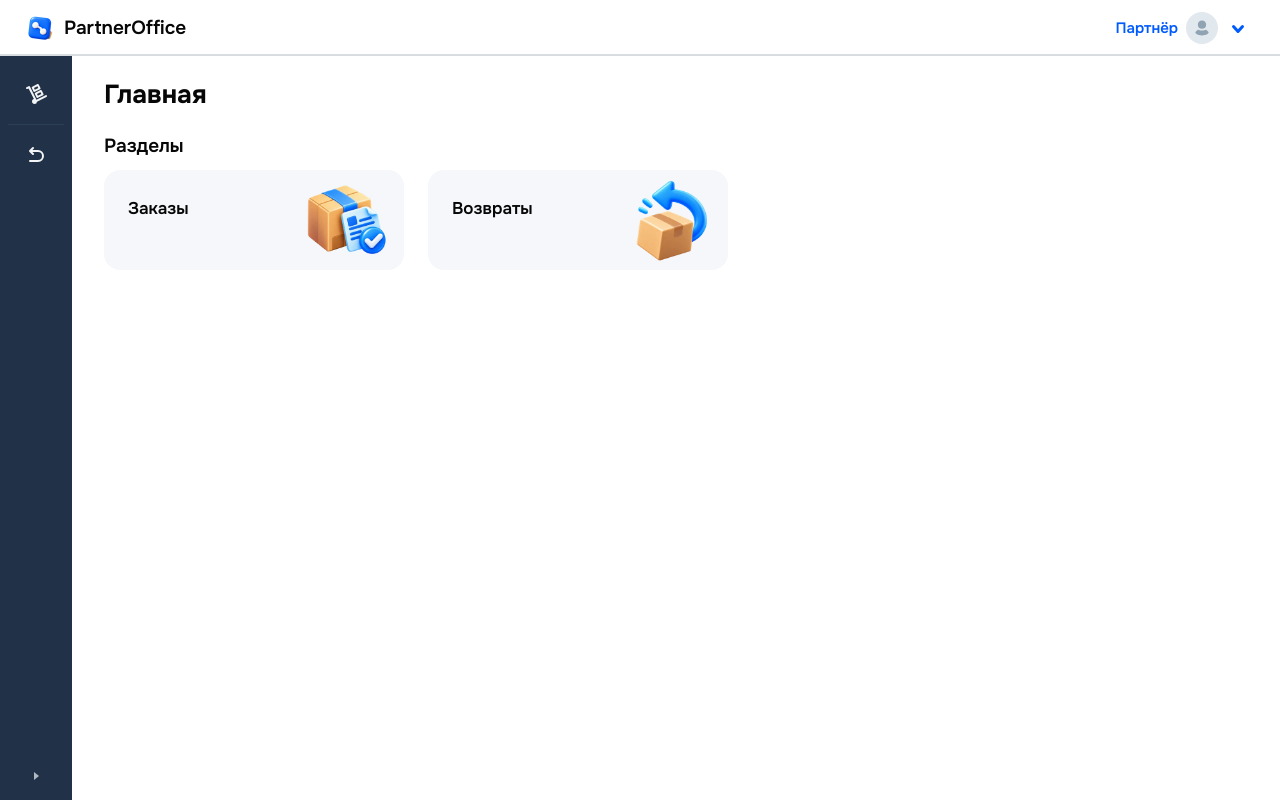
Главная страница › открывает разрешённые разделы и возвращается на главную по логотипу
Check: the heading "Главная" is shown, box [104,78,207,111]
Step 1. Click the link "Заказы" → coordinates (158, 208), box [104,170,404,270]
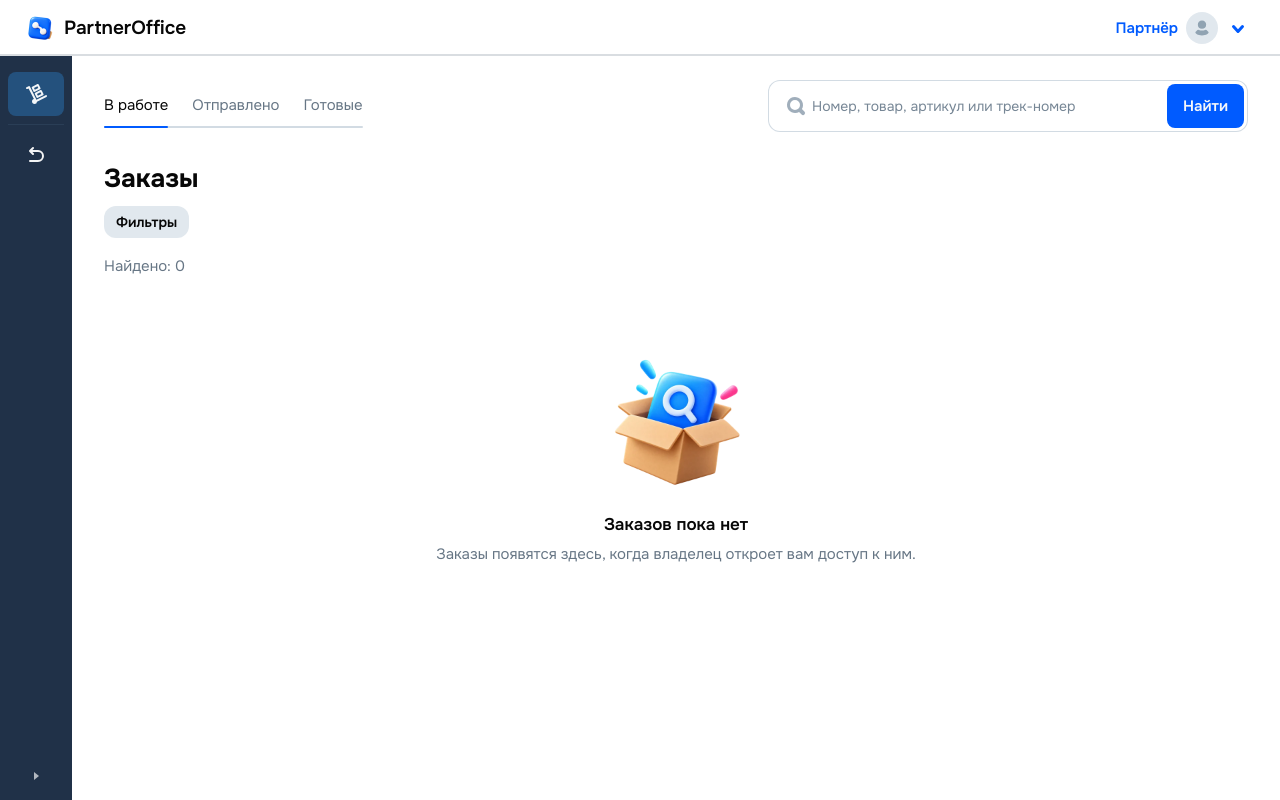
Check: the heading "Заказы" is shown, box [104,162,198,195]
Step 2. Click the link with aria-label "На главную" → coordinates (105, 28), box [24,12,186,44]
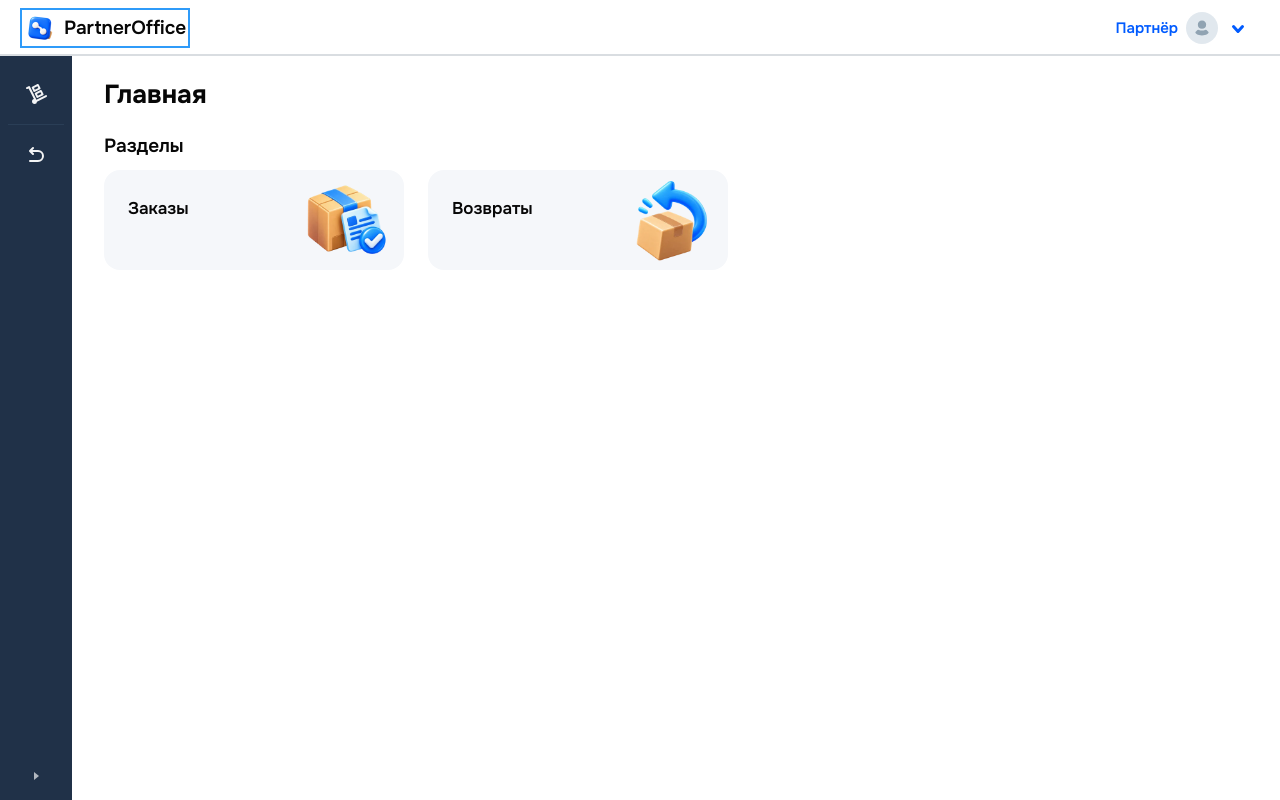
Check: the heading "Главная" is shown, box [104,78,207,111]
